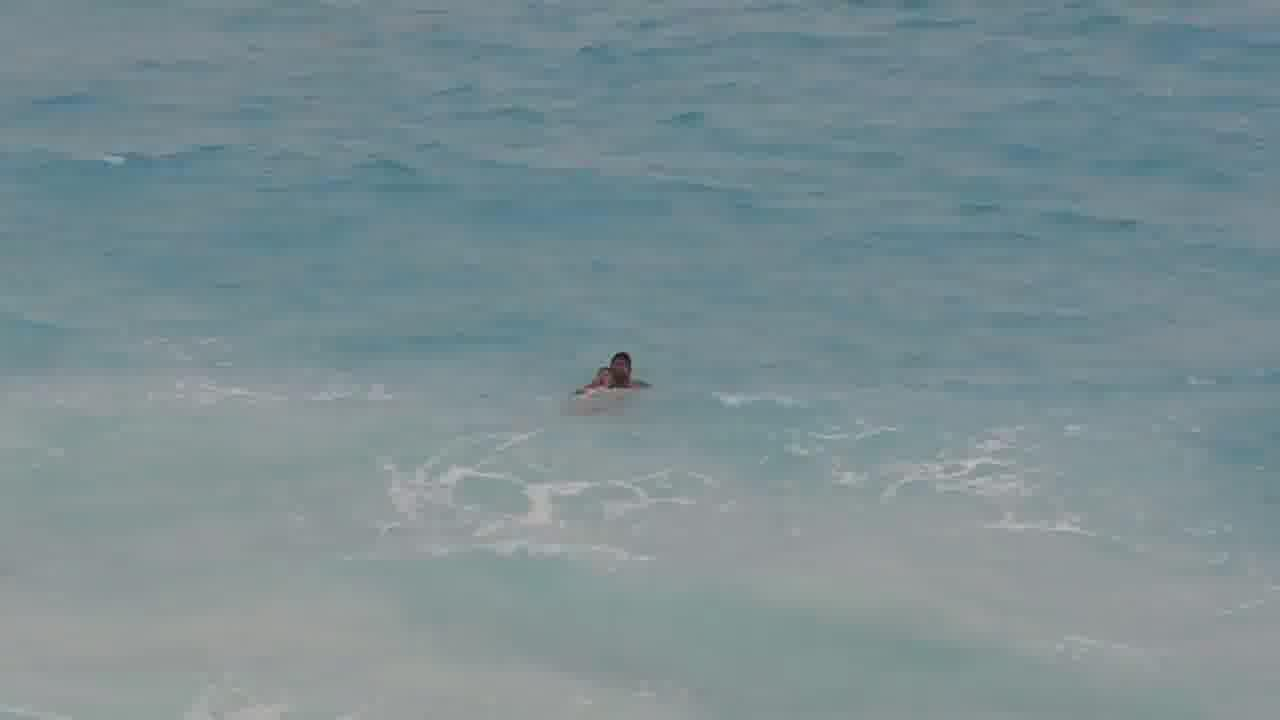human: (580, 350, 648, 392)
